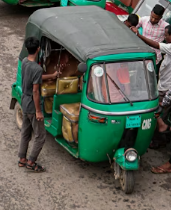cng: (10, 5, 159, 196)
